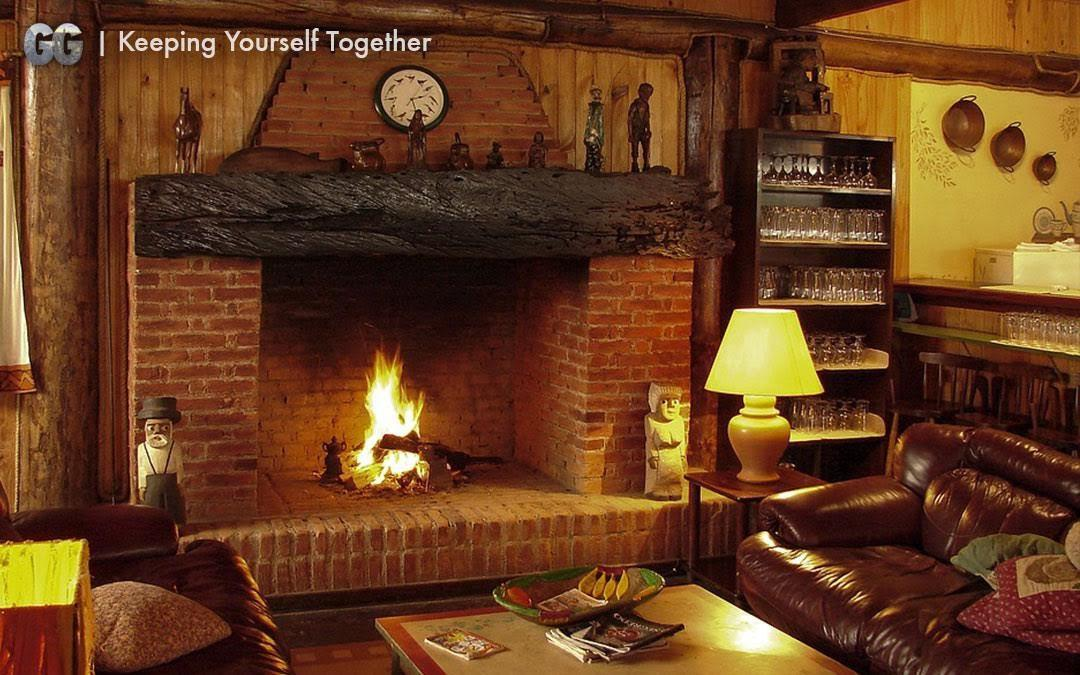Fire: (348, 337, 437, 494)
